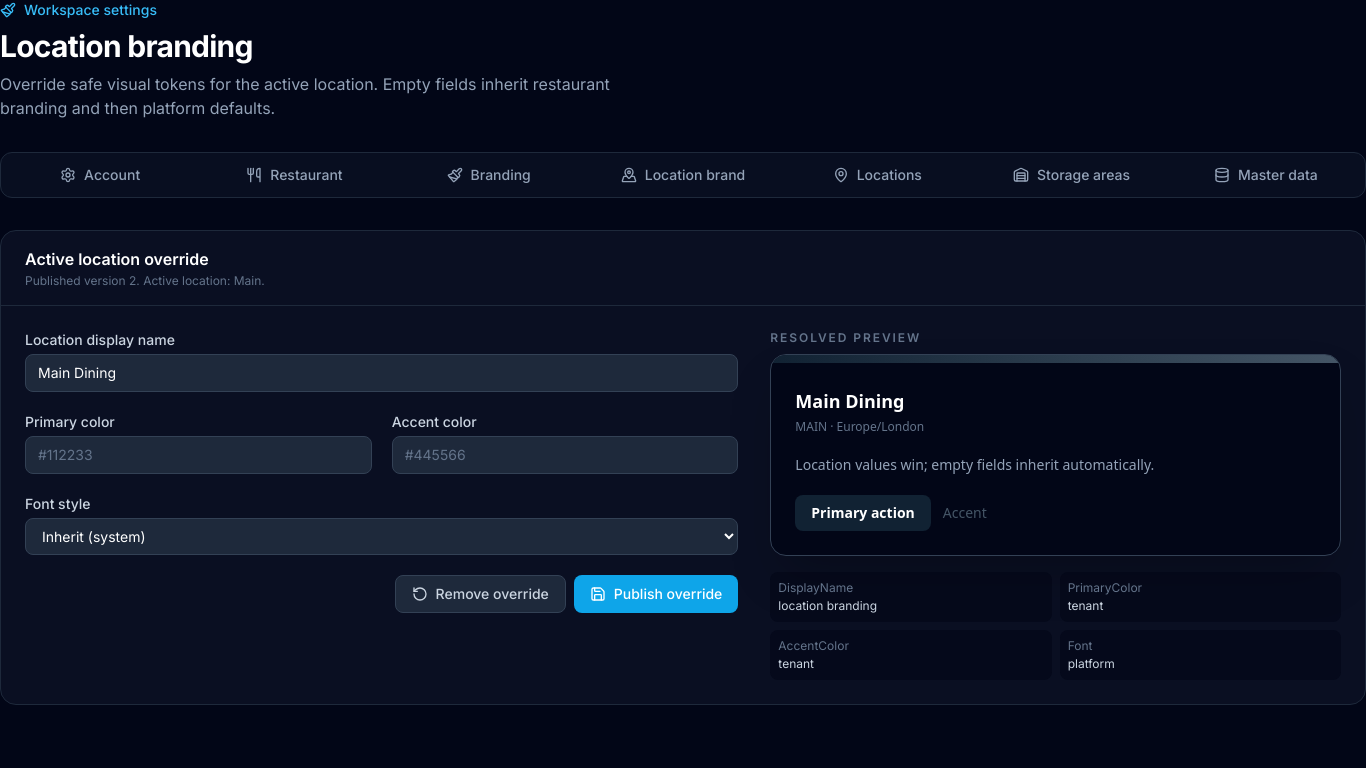
Test: LocationBrandingPage › removes the current override using optimistic versioning
Expected: the field showing "Main Dining" is shown, [25,354,738,392]
Click the button "Remove override".
click(480, 594)  # box [395,575,566,613]
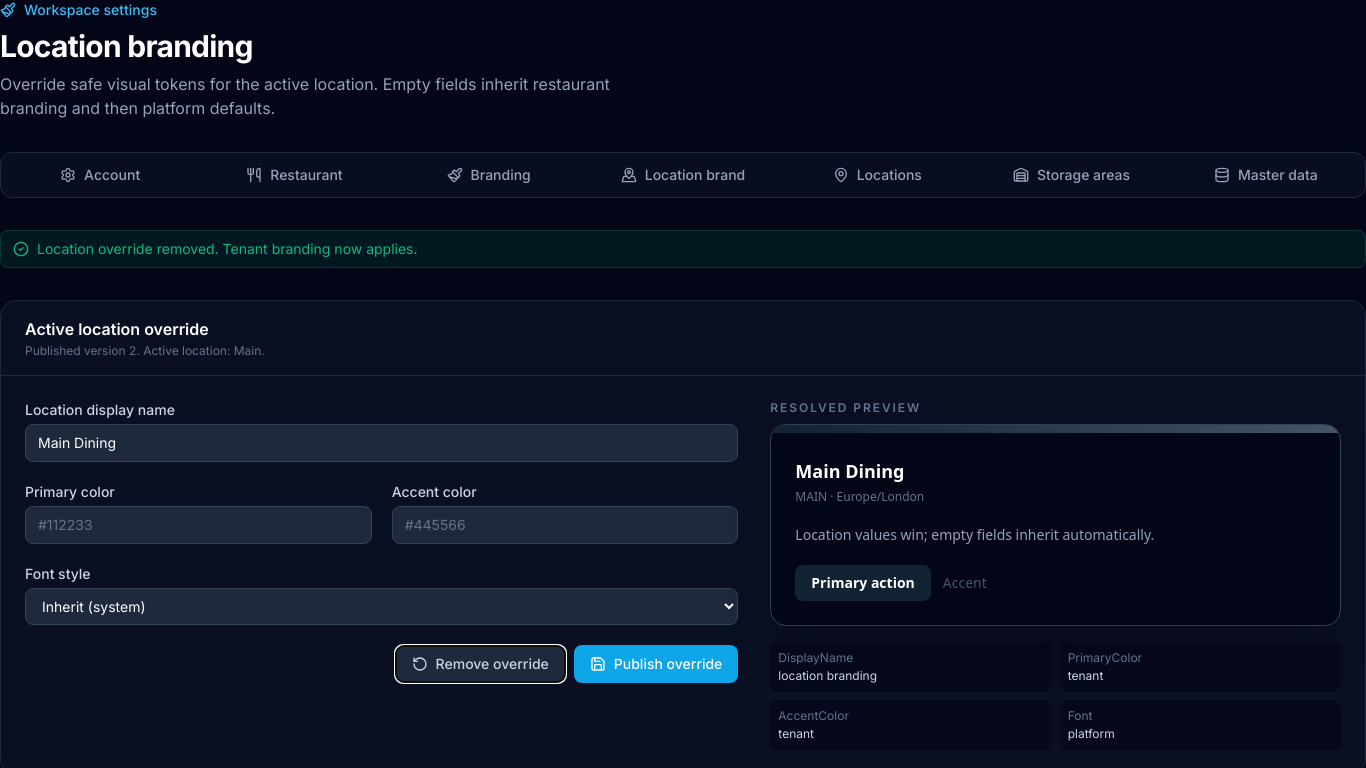
Result: the text "Location override removed. Tenant branding now applies." is shown at [0,230,1365,268]
